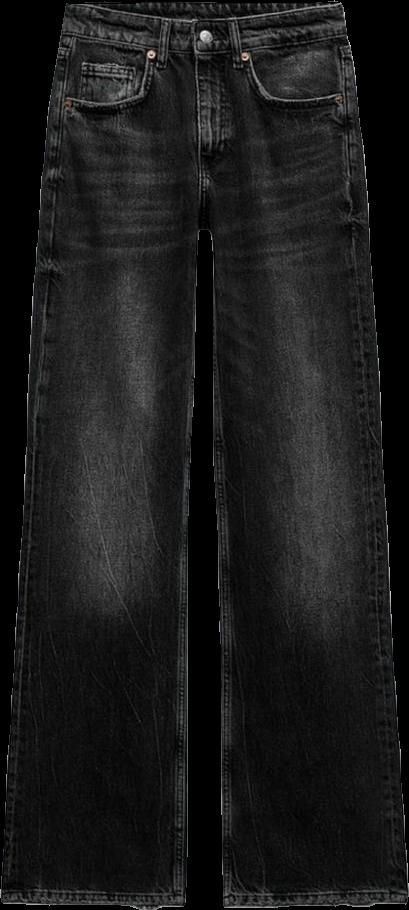Hemline: (225, 893, 408, 909), (0, 896, 181, 909)
Pantleg: (193, 1, 407, 909), (1, 0, 200, 909)
Waistline: (59, 29, 347, 60), (65, 0, 339, 28)
